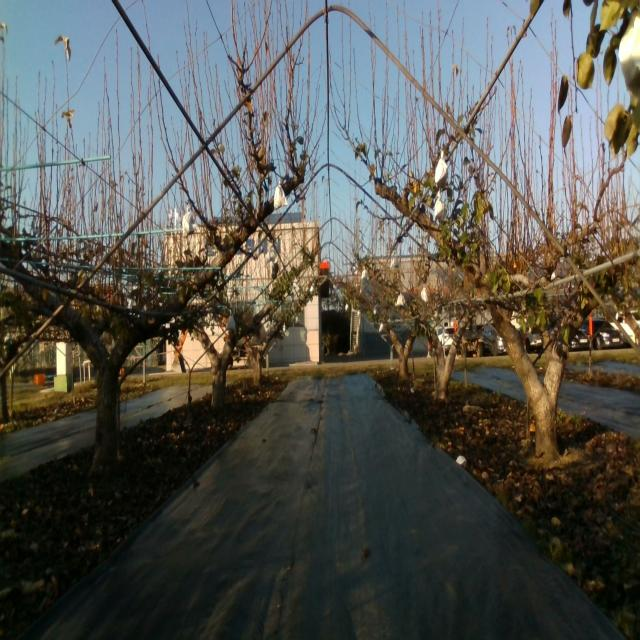pearbags: (434, 152, 448, 190), (182, 209, 196, 238), (433, 192, 445, 220), (274, 186, 288, 210)
